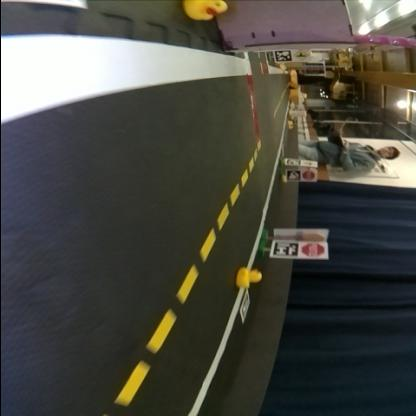Duckie: (182, 4, 227, 22), (236, 269, 262, 289)
Intersection sign: (293, 50, 309, 60)
QR code: (272, 241, 297, 259), (240, 290, 249, 322), (275, 51, 289, 63), (286, 170, 300, 182), (286, 158, 300, 167)
Stop sign: (299, 242, 326, 258), (302, 171, 316, 182)
